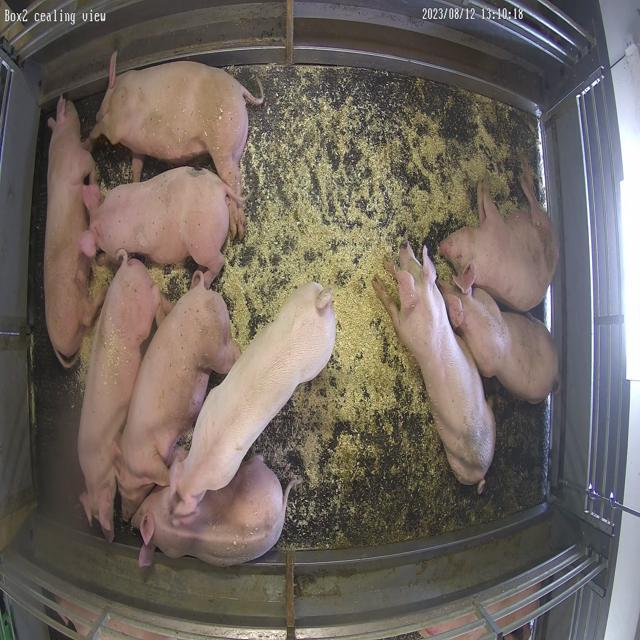Dirt: (250, 373, 548, 550)
Pig: (170, 283, 337, 517), (374, 243, 495, 488), (118, 274, 240, 512), (77, 253, 172, 542), (90, 52, 262, 196), (132, 456, 298, 568), (81, 166, 235, 282), (43, 97, 103, 368)
